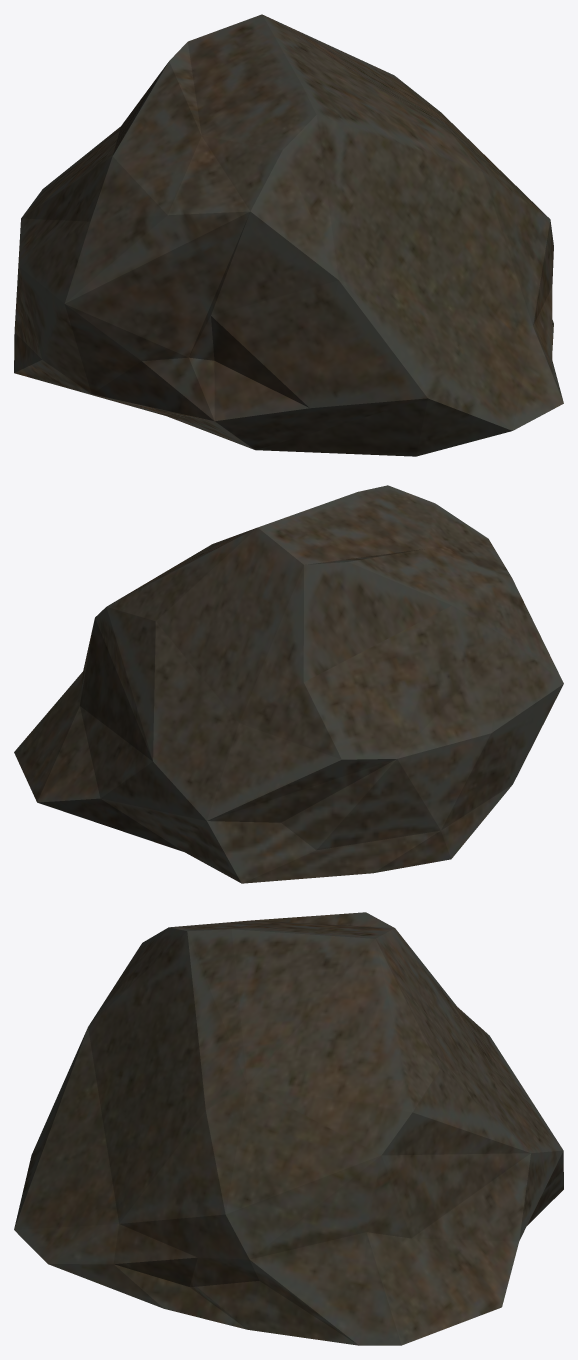
File: piedra_stone_05.glb
The picture shows the model from 3 angles, top to bottom: view 1: azimuth 30°, elevation 25°; view 2: azimuth 150°, elevation 25°; view 3: azimuth 270°, elevation 25°; orthographic projection. The views are drawn at different scales.
Visible parts, largest first — view 1: Stone_05; view 2: Stone_05; view 3: Stone_05.
Part boxes in pixels (bbox=[...]): Stone_05: bbox=[14, 14, 563, 456]; Stone_05: bbox=[14, 485, 563, 883]; Stone_05: bbox=[14, 912, 563, 1345].
Size of the model in its own units: 1 by 0.5759 by 0.9573.
1 material, 1 textured.
